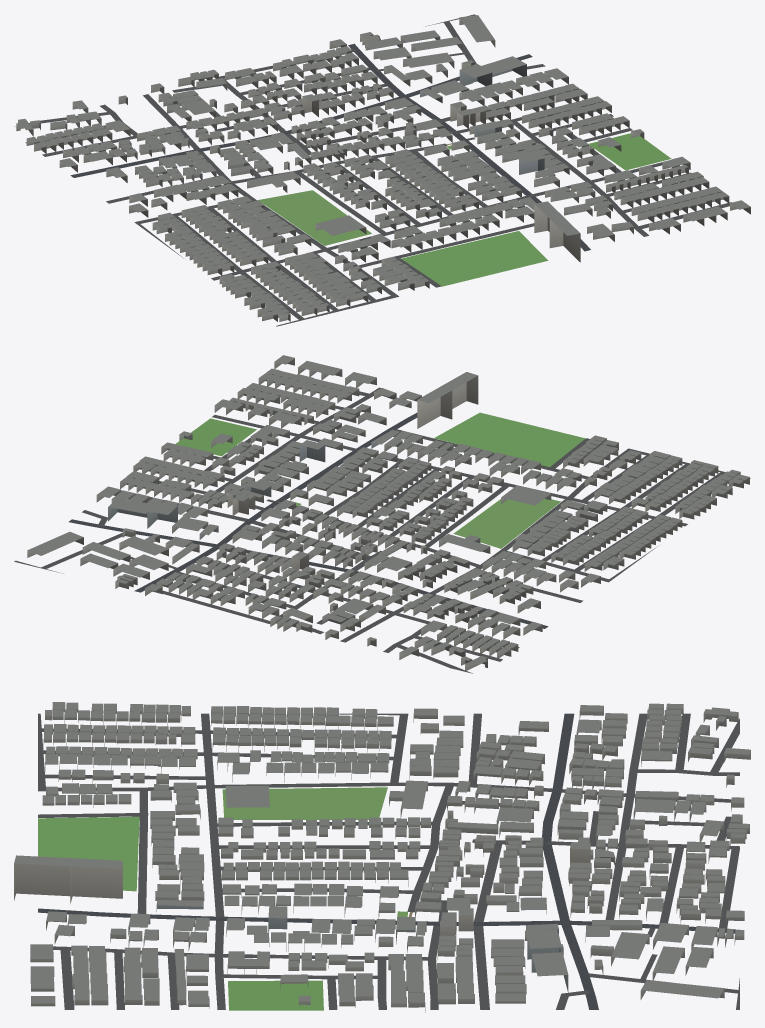
The picture shows the model from 3 angles, top to bottom: view 1: azimuth 30°, elevation 25°; view 2: azimuth 150°, elevation 25°; view 3: azimuth 270°, elevation 25°; orthographic projection. The views are drawn at different scales.
Visible parts, largest first — view 1: building, ground; view 2: building, ground; view 3: building, ground.
Part boxes in pixels (box(x1,y1,x2,y2)): building: box(16, 15, 750, 321); ground: box(14, 14, 731, 326); building: box(27, 355, 749, 670); ground: box(14, 380, 750, 673); building: box(14, 702, 750, 1012); ground: box(38, 713, 739, 1010).
Size of the model in its own units: 508 by 30 by 525.
